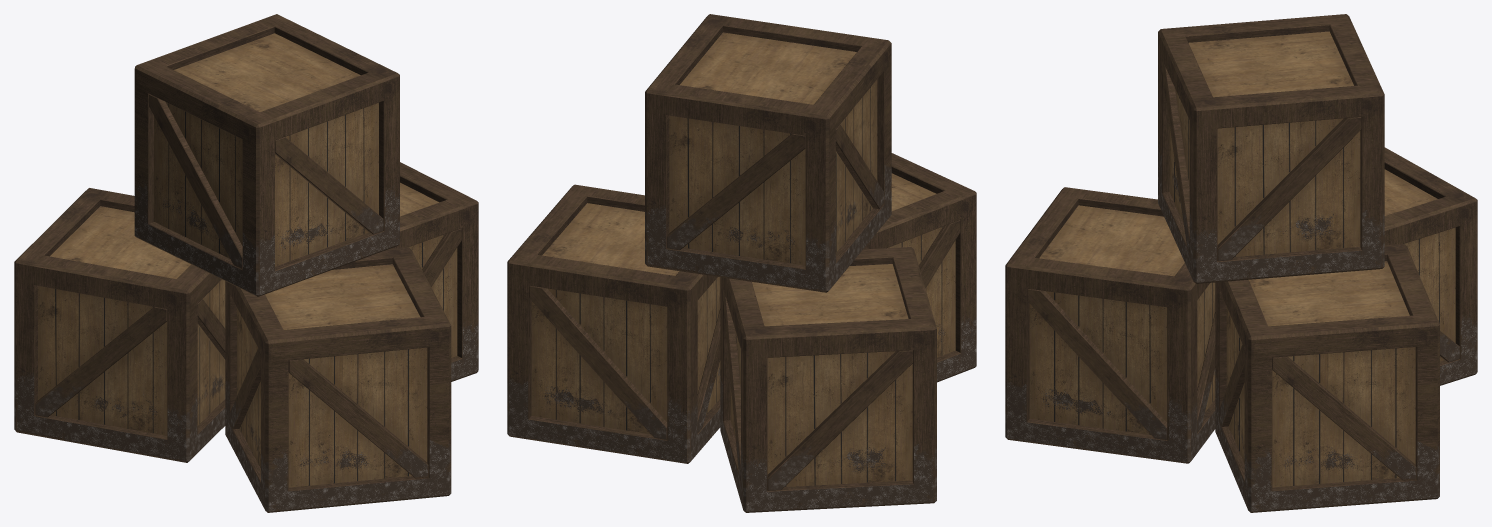
The picture shows the model from 3 angles, left to right: view 1: azimuth 30°, elevation 25°; view 2: azimuth 150°, elevation 25°; view 3: azimuth 270°, elevation 25°; orthographic projection. The views are drawn at different scales.
Parts seen in each view (by area): view 1: Crate_Main.003, Crate_Main, Crate_Main.001, Crate_Main.002, Plank, Plank.003, Plank.006, Plank.007, Plank.001, Plank.005, Plank.002; view 2: Crate_Main.003, Crate_Main.001, Crate_Main.002, Crate_Main, Plank.002, Plank.005, Plank.007, Plank.006, Plank.003, Plank.004, Plank.001; view 3: Crate_Main.003, Crate_Main.002, Crate_Main, Crate_Main.001, Plank.001, Plank.006, Plank.004, Plank.007, Plank, Plank.005.
Boxes of the visible parts, box(x1,y1,x2,y2) form: Crate_Main.003: box(134, 14, 399, 296); Crate_Main: box(225, 247, 451, 512); Crate_Main.001: box(14, 188, 225, 462); Crate_Main.002: box(391, 162, 478, 381); Plank: box(288, 359, 428, 478); Plank.003: box(35, 307, 167, 417); Plank.006: box(149, 94, 242, 269); Plank.007: box(275, 137, 383, 234); Plank.001: box(230, 348, 260, 429); Plank.005: box(422, 228, 461, 286); Plank.002: box(197, 299, 225, 359); Crate_Main.003: box(645, 14, 891, 292); Crate_Main.001: box(720, 247, 936, 512); Crate_Main.002: box(507, 184, 720, 463); Crate_Main: box(863, 153, 976, 382); Plank.002: box(767, 350, 913, 490); Plank.005: box(529, 285, 667, 439); Plank.007: box(667, 133, 805, 250); Plank.006: box(836, 124, 884, 209); Plank.003: box(723, 288, 740, 481); Plank.004: box(697, 309, 720, 432); Plank.001: box(919, 220, 960, 288); Crate_Main.003: box(1158, 14, 1384, 283); Crate_Main.002: box(1215, 244, 1439, 512); Crate_Main: box(1005, 187, 1215, 463); Crate_Main.001: box(1384, 147, 1477, 385); Plank.001: box(1027, 289, 1167, 439); Plank.006: box(1217, 117, 1361, 261); Plank.004: box(1272, 356, 1416, 480); Plank.007: box(1162, 60, 1189, 252); Plank: box(1197, 312, 1215, 432); Plank.005: box(1219, 344, 1244, 426).
Bounding box in the file's own units: 3.72 × 3 × 3.64.
Materials: 1 (1 with a texture image).
